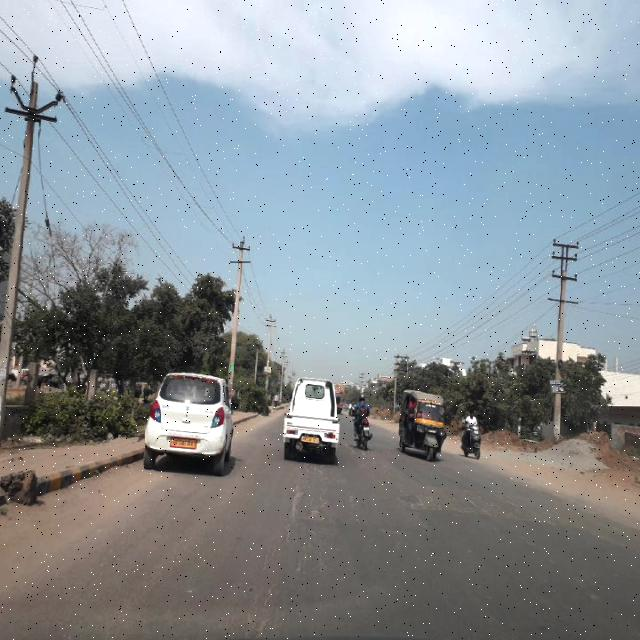D00: (290, 461, 324, 536), (246, 564, 280, 638)
D20: (407, 477, 492, 514)
D40: (288, 460, 322, 534)
